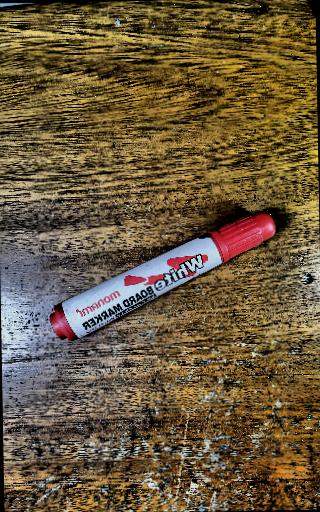marcador rojo: (50, 211, 275, 341)
